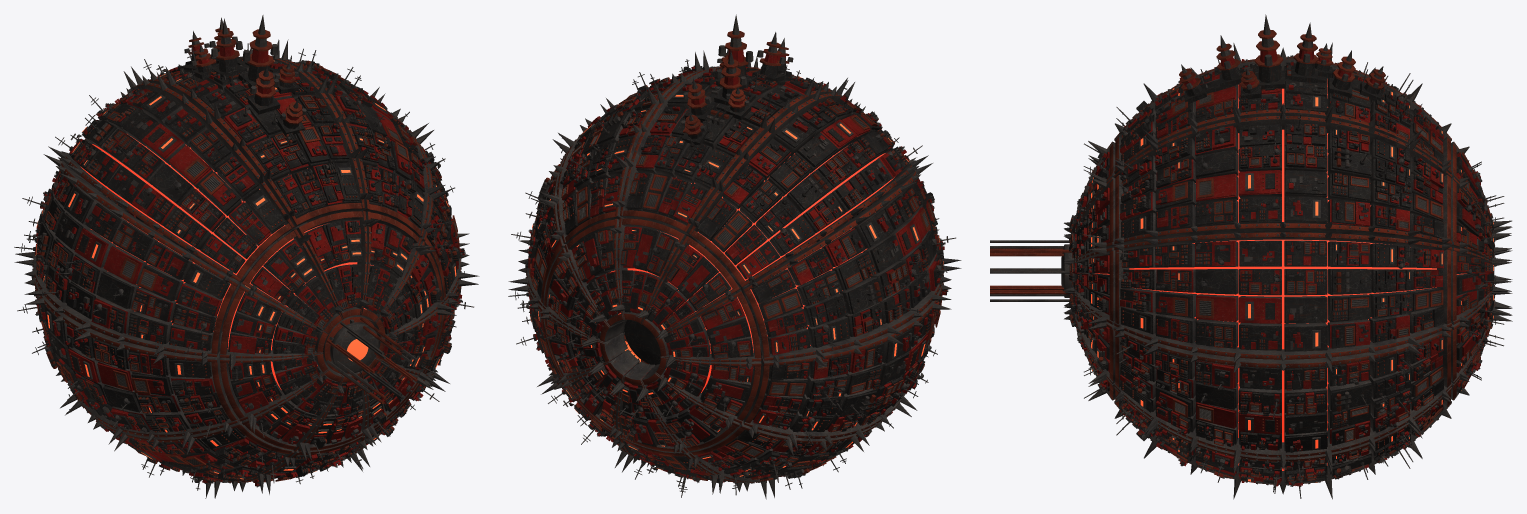
Rendered from weltenkruemmer.krath.rig.glb.
The picture shows the model from 3 angles, left to right: view 1: azimuth 30°, elevation 25°; view 2: azimuth 150°, elevation 25°; view 3: azimuth 270°, elevation 25°; orthographic projection. The views are drawn at different scales.
Visible parts, largest first — view 1: platte_01, platte_02, platte_00, platte_03, platte_09, platte_04, tuerme_oben, klappe_vorn_02, klappe_vorn_01, klappe_vorn_00, klappe_vorn_03, klappe_vorn_09 (+12 smaller); view 2: platte_01, platte_02, platte_00, platte_03, platte_09, platte_04, klappe_hinten_02, klappe_hinten_01, tuerme_oben, klappe_hinten_00, klappe_hinten_03, klappe_hinten_09 (+10 smaller); view 3: platte_08, platte_09, platte_07, platte_00, platte_06, tuerme_oben, klappe_vorn_08, klappe_hinten_08, klappe_vorn_09, klappe_hinten_09, klappe_vorn_07, klappe_hinten_07 (+7 smaller).
Boxes of the visible parts, x1,y1,x2,y2 form: platte_01: [48, 71, 294, 281]; platte_02: [14, 154, 238, 358]; platte_00: [126, 39, 367, 228]; platte_03: [14, 242, 238, 448]; platte_09: [244, 39, 445, 237]; platte_04: [61, 379, 294, 498]; tuerme_oben: [184, 15, 306, 136]; klappe_vorn_02: [219, 278, 328, 364]; klappe_vorn_01: [239, 229, 342, 333]; klappe_vorn_00: [292, 211, 375, 319]; klappe_vorn_03: [219, 351, 328, 429]; klappe_vorn_09: [361, 211, 432, 322]; platte_01: [688, 82, 928, 287]; platte_02: [743, 163, 961, 361]; platte_00: [617, 50, 852, 235]; platte_03: [743, 265, 961, 450]; platte_09: [541, 52, 761, 244]; platte_04: [688, 355, 928, 497]; klappe_hinten_02: [655, 283, 761, 365]; klappe_hinten_01: [638, 236, 742, 337]; tuerme_oben: [681, 14, 793, 144]; klappe_hinten_00: [611, 218, 690, 323]; klappe_hinten_03: [655, 355, 762, 424]; klappe_hinten_09: [561, 218, 625, 326]; platte_08: [1114, 232, 1451, 362]; platte_09: [1114, 107, 1451, 244]; platte_07: [1114, 327, 1451, 468]; platte_00: [1114, 44, 1451, 173]; platte_06: [1114, 387, 1451, 499]; tuerme_oben: [1179, 14, 1385, 104]; klappe_vorn_08: [1064, 247, 1115, 324]; klappe_hinten_08: [1451, 247, 1511, 324]; klappe_vorn_09: [1064, 177, 1118, 261]; klappe_hinten_09: [1448, 177, 1511, 261]; klappe_vorn_07: [1064, 286, 1116, 383]; klappe_hinten_07: [1449, 286, 1512, 383].
Size of the model in its own units: 2.22 by 2.48 by 2.5.
6 materials, 4 textured.
